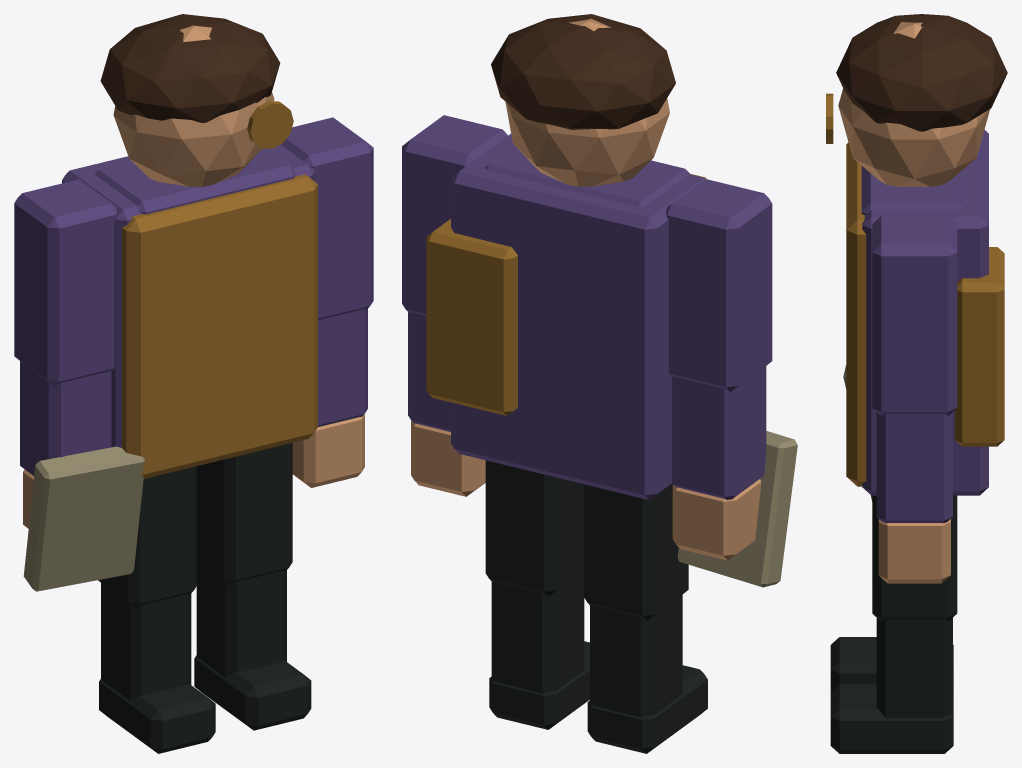
Rendered from CaleMarkBroker.glb.
3 views of the same model, side by side, from view 1: azimuth 30°, elevation 25°; view 2: azimuth 150°, elevation 25°; view 3: azimuth 270°, elevation 25° (orthographic). The views are drawn at different scales.
Visible parts, largest first — view 1: UpperTorso_Tunic, LeftUpperArm, Head_HairCap, LeftHand_Ledger, RightUpperLeg, RightUpperArm, Head, LeftLowerLeg, RightLowerLeg, LeftUpperLeg, LeftLowerArm, RightFoot (+6 smaller); view 2: UpperTorso_BrokerCoat, LeftUpperArm, Head_HairCap, UpperTorso_MarkCase, RightUpperLeg, LeftUpperLeg, LeftLowerArm, RightLowerLeg, LeftLowerLeg, RightUpperArm, Head, LeftHand_Ledger (+6 smaller); view 3: RightUpperArm, Head_HairCap, UpperTorso_BrokerCoat, UpperTorso_MarkCase, RightLowerArm, Head, RightLowerLeg, UpperTorso_Tunic, RightFoot, RightHand, RightUpperLeg, UpperTorso (+2 smaller).
Part boxes in pixels (x1,y1,x2,y2): UpperTorso_Tunic: (122,174,317,478); LeftUpperArm: (14,179,117,386); Head_HairCap: (100,14,280,122); LeftHand_Ledger: (23,446,145,591); RightUpperLeg: (197,443,292,584); RightUpperArm: (281,117,373,320); Head: (113,25,274,186); LeftLowerLeg: (101,583,191,700); RightLowerLeg: (196,560,286,677); LeftUpperLeg: (98,466,196,607); LeftLowerArm: (20,361,111,475); RightFoot: (194,655,311,730); UpperTorso_BrokerCoat: (451,134,704,499); LeftUpperArm: (666,179,772,391); Head_HairCap: (491,14,675,129); UpperTorso_MarkCase: (426,219,517,415); RightUpperLeg: (485,460,583,596); LeftUpperLeg: (584,483,688,620); LeftLowerArm: (672,366,766,499); RightLowerLeg: (491,571,584,693); LeftLowerLeg: (590,594,682,717); RightUpperArm: (402,115,507,315); Head: (505,18,669,186); LeftHand_Ledger: (677,431,797,587); RightUpperArm: (872,216,957,415); Head_HairCap: (836,14,1007,131); UpperTorso_BrokerCoat: (862,130,988,495); UpperTorso_MarkCase: (955,247,1004,446); RightLowerArm: (876,412,952,523); Head: (838,22,989,186); RightLowerLeg: (876,618,952,717); UpperTorso_Tunic: (846,142,866,486); RightFoot: (830,684,953,753); RightHand: (878,519,950,583); RightUpperLeg: (872,495,957,621); UpperTorso: (861,166,963,214).
Bounding box in the file's own units: 4.42 × 8.48 × 2.01.
1 material, 1 textured.
